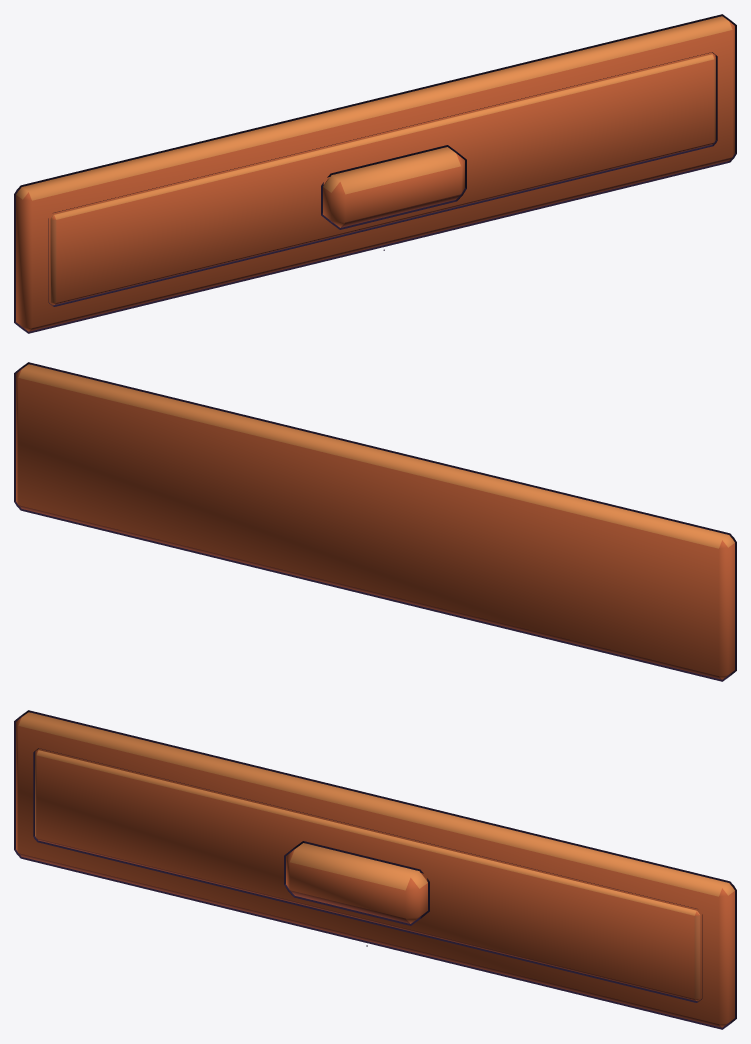
File: DrawerFront.glb
The picture shows the model from 3 angles, top to bottom: view 1: azimuth 30°, elevation 25°; view 2: azimuth 150°, elevation 25°; view 3: azimuth 330°, elevation 25°; orthographic projection.
Parts seen in each view (by area): view 1: DrawerFront, DrawerFront_Outline; view 2: DrawerFront, DrawerFront_Outline; view 3: DrawerFront, DrawerFront_Outline.
Boxes of the visible parts, <box> form: DrawerFront: <box>16,16,734,331</box>; DrawerFront_Outline: <box>14,14,736,333</box>; DrawerFront: <box>16,364,734,679</box>; DrawerFront_Outline: <box>14,362,736,681</box>; DrawerFront: <box>16,712,734,1027</box>; DrawerFront_Outline: <box>14,710,736,1029</box>.
Bounding box in the file's own units: 48.21 × 9.21 × 4.26.
Materials: 1 (1 with a texture image).
